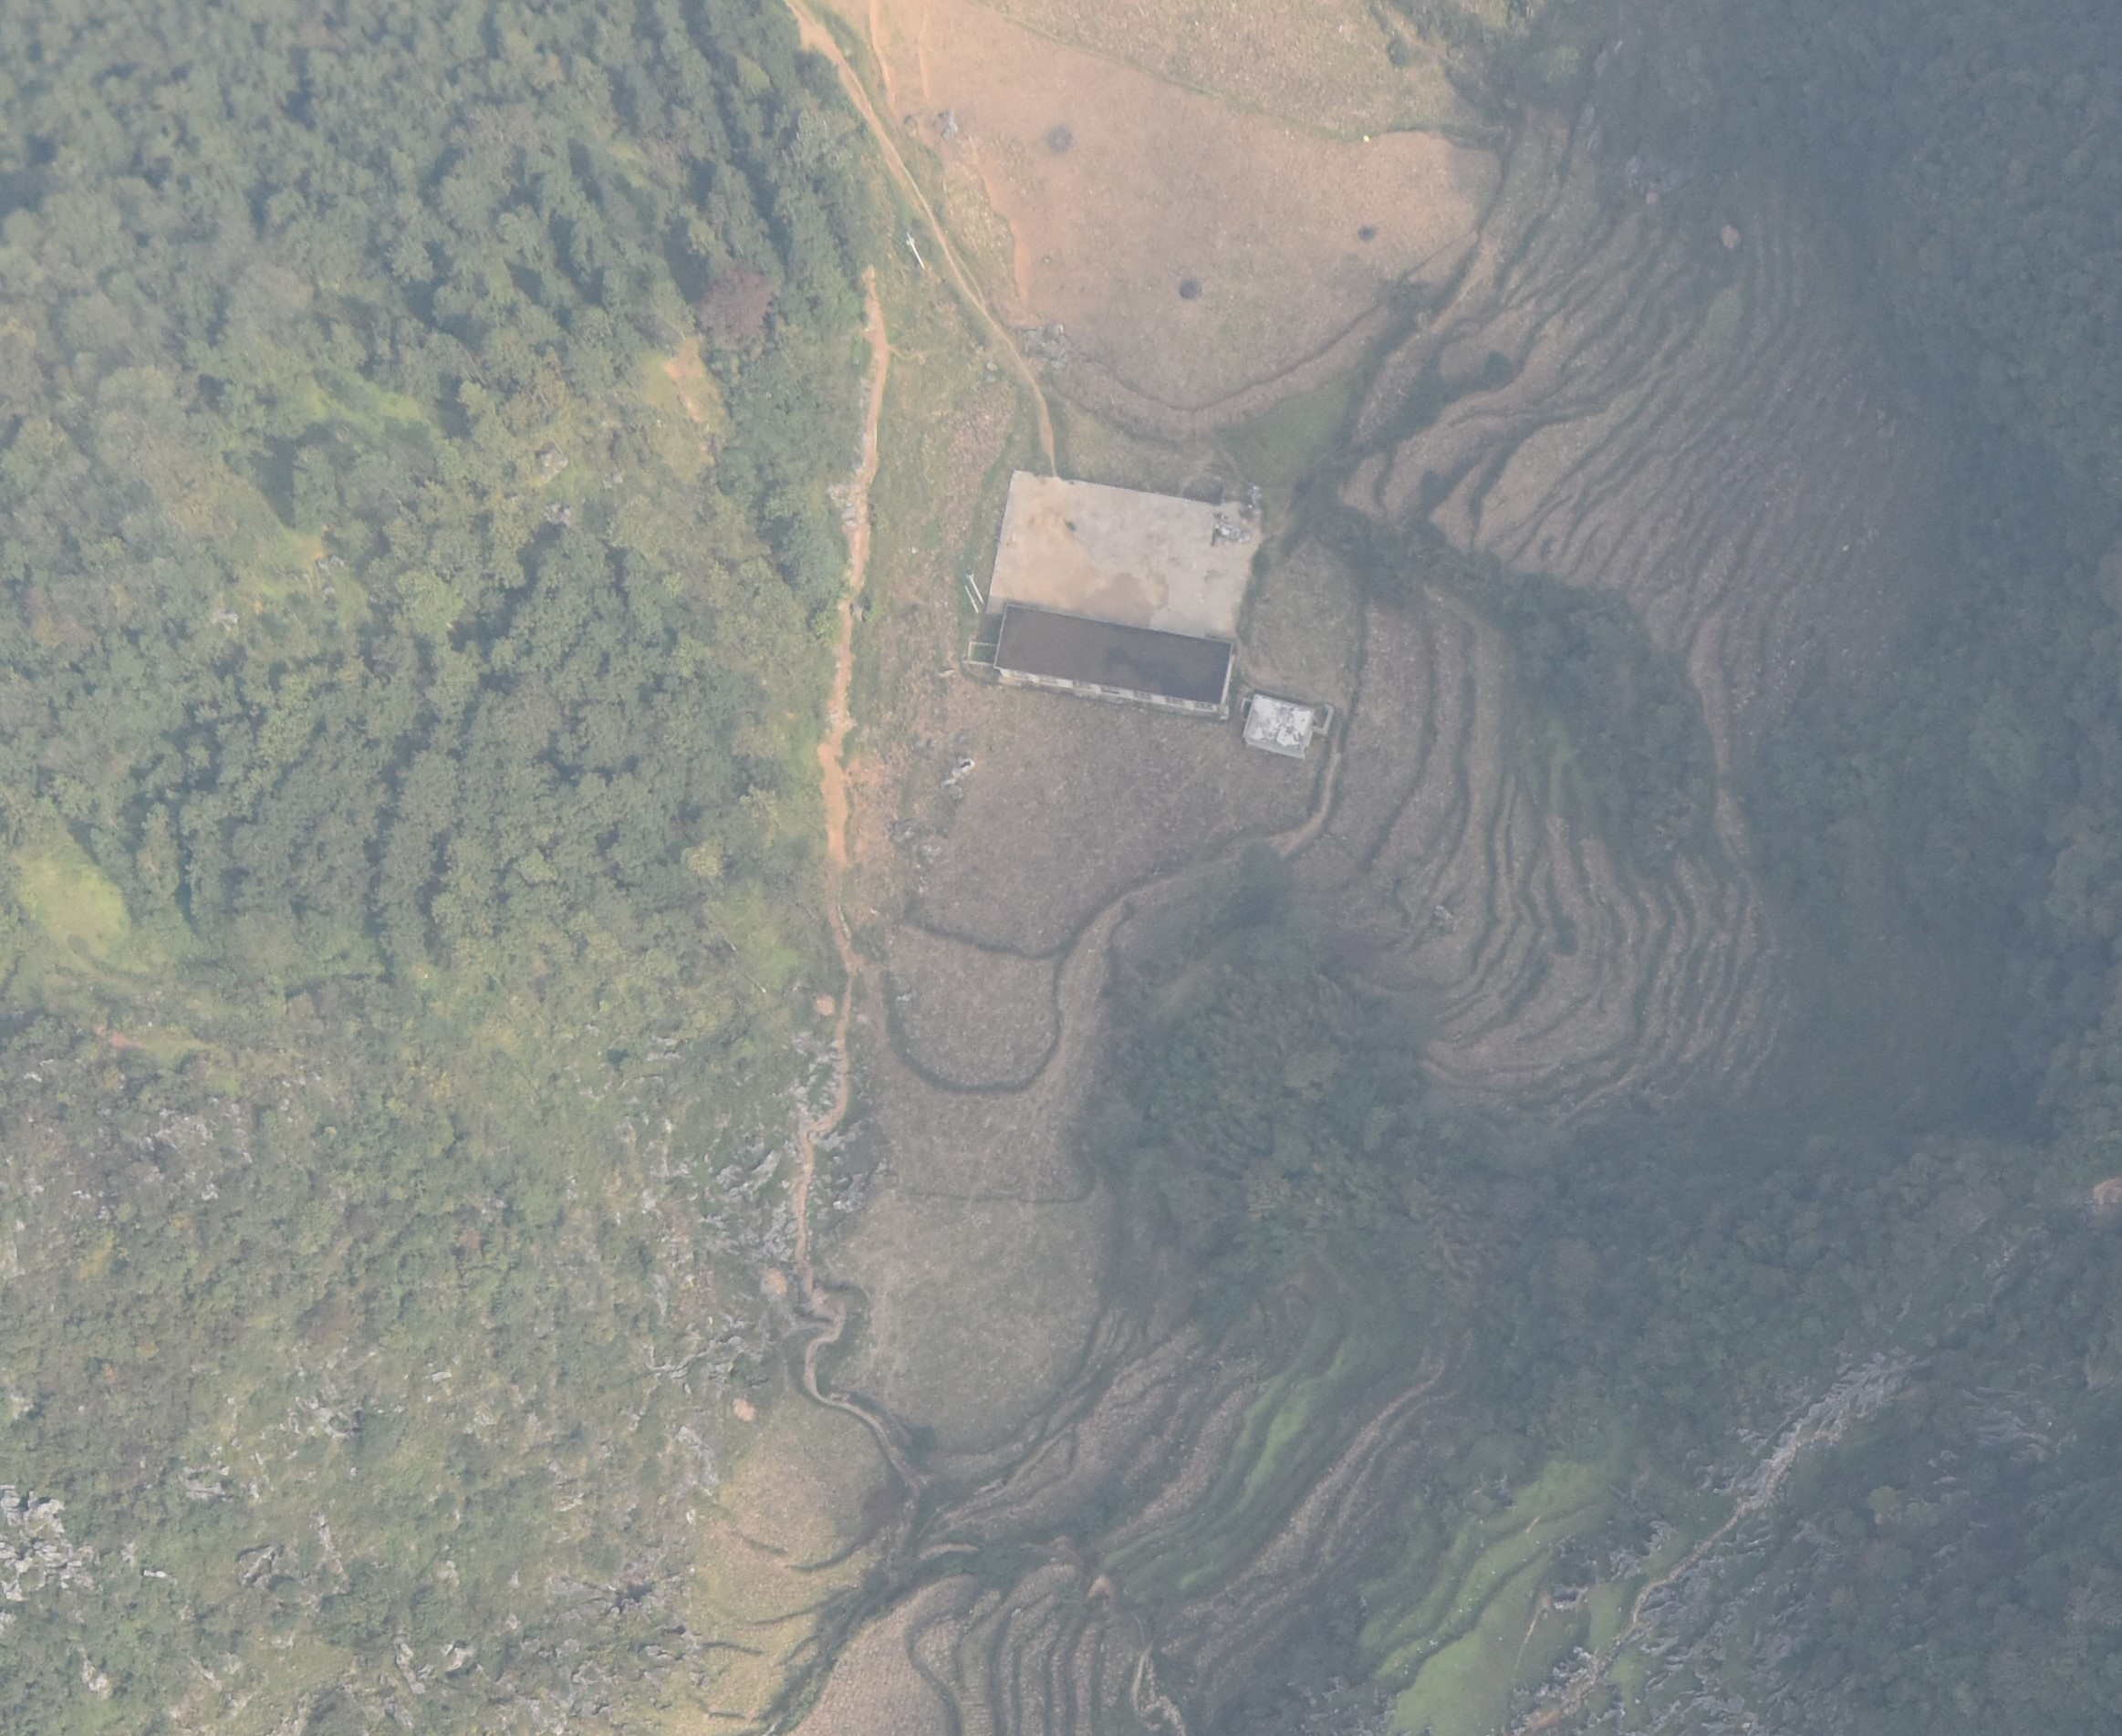building: (994, 603, 1233, 714), (1243, 693, 1316, 758)
cable-tower: (904, 232, 926, 272), (964, 571, 984, 607), (963, 587, 979, 616)
